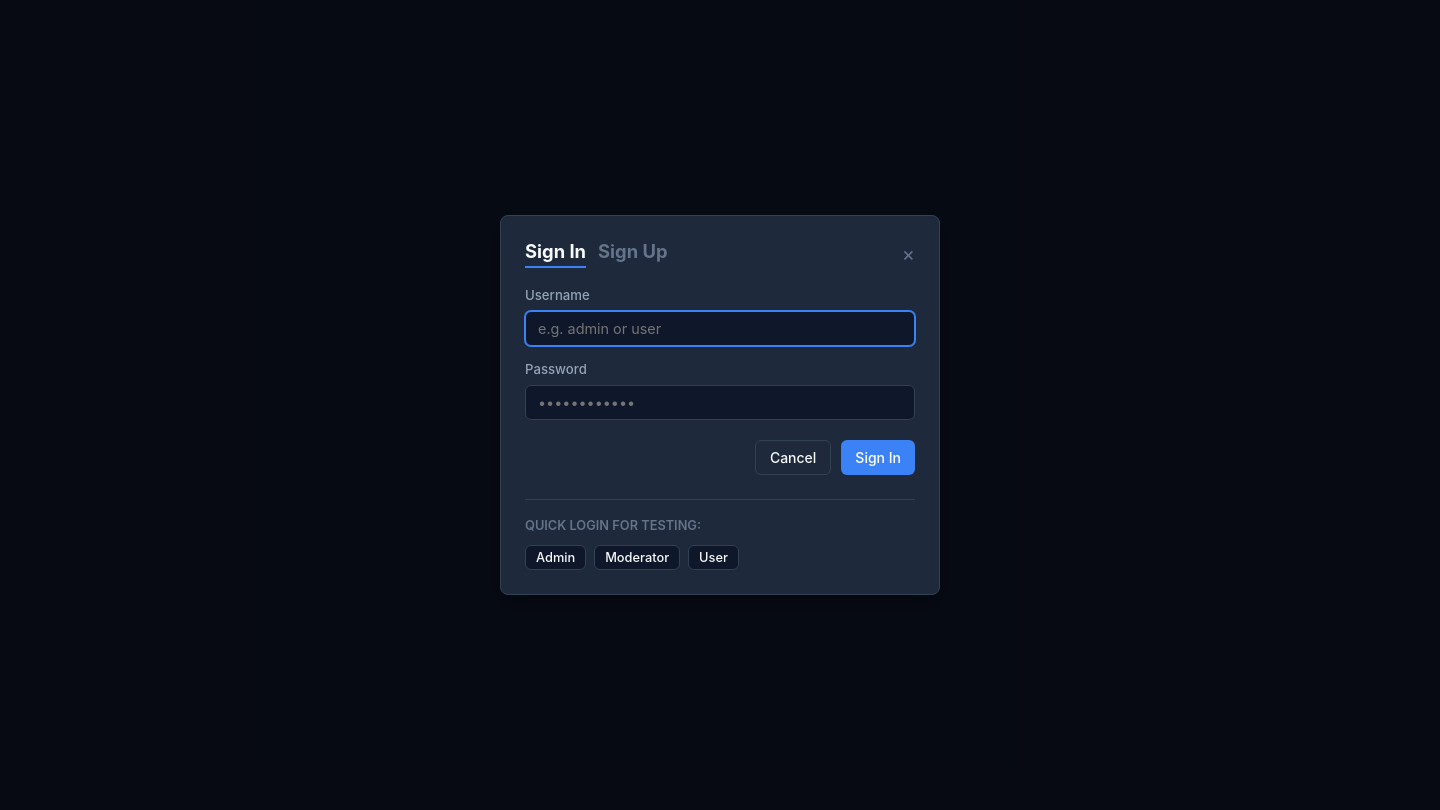
it: LoginModal › should display error when submitting with empty fields
Click the button "Sign In".
click(878, 457)  # box [841,440,915,475]
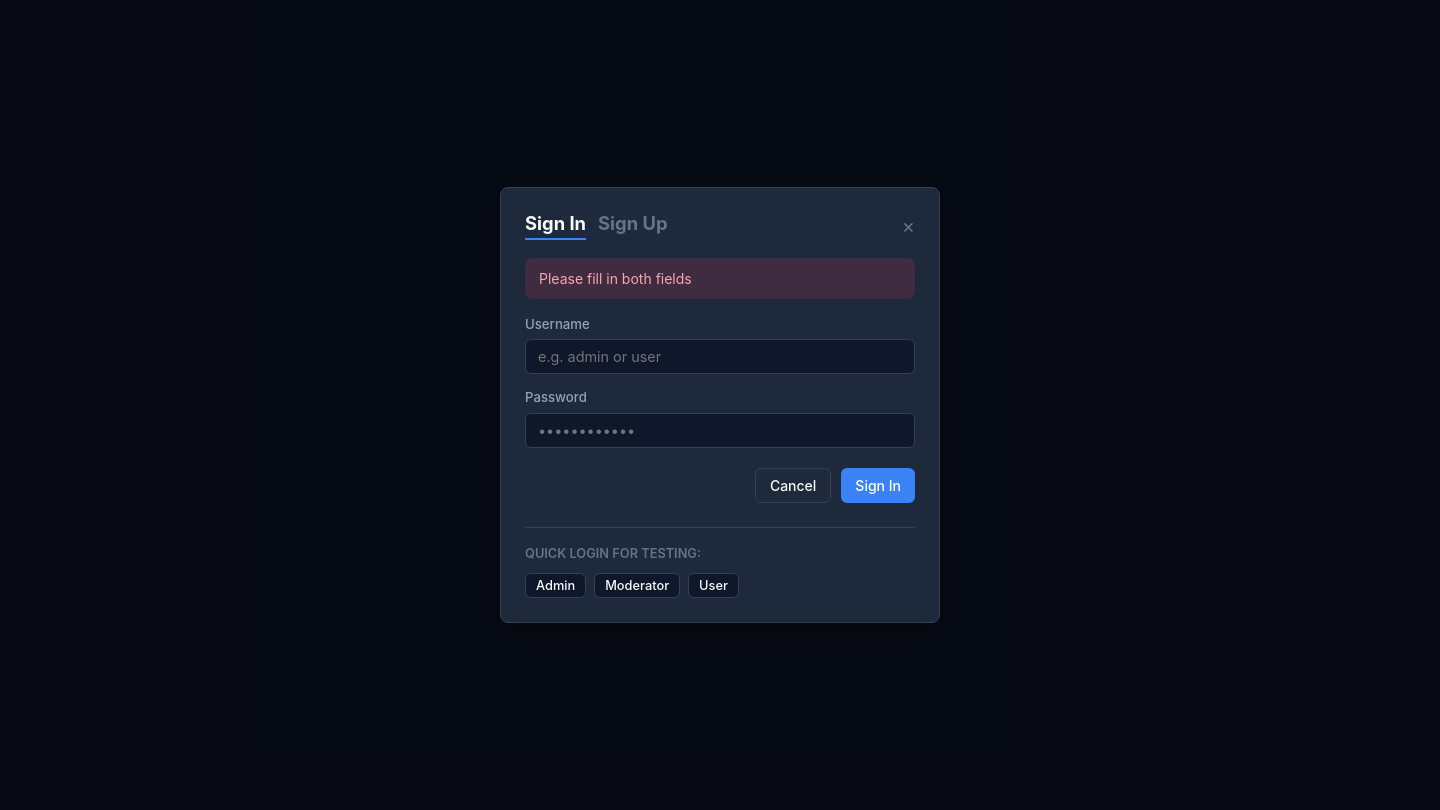
Expected: the message reads "Please fill in both fields", [539,270,692,287]
